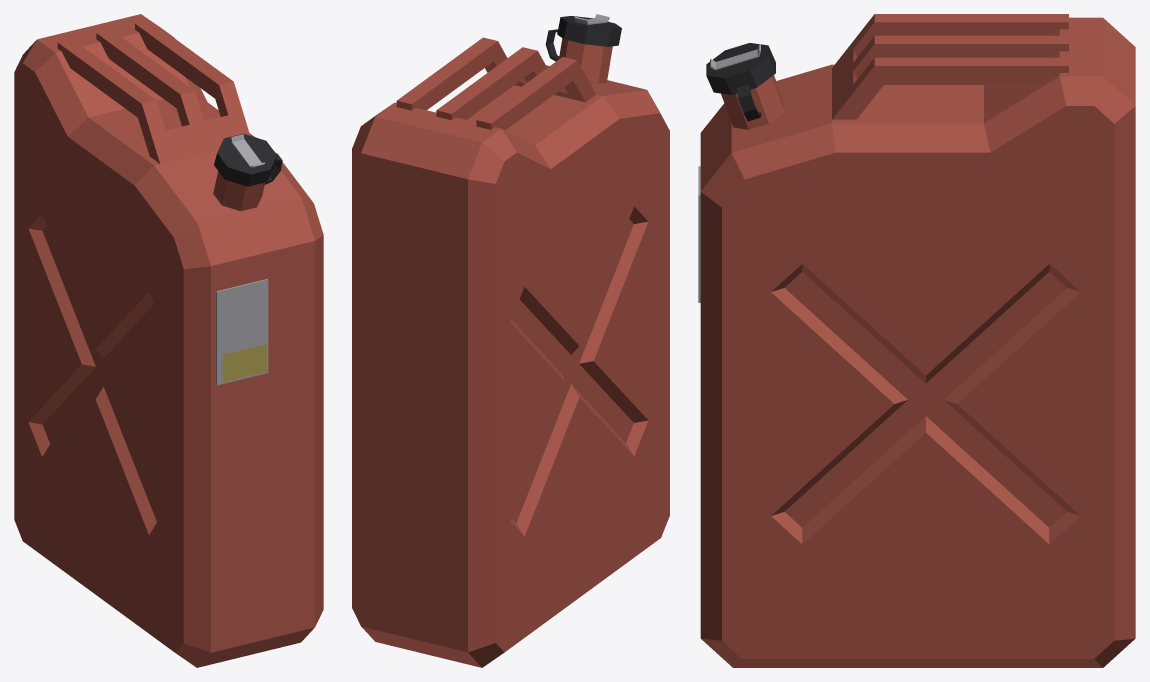
File: petrol.fbx
The picture shows the model from 3 angles, left to right: view 1: azimuth 30°, elevation 25°; view 2: azimuth 150°, elevation 25°; view 3: azimuth 270°, elevation 25°; orthographic projection. The views are drawn at different scales.
Parts seen in each view (by area): view 1: petrol; view 2: petrol; view 3: petrol.
Boxes of the visible parts, left/top/right/bottom form: petrol: left=14, top=14, right=323, bottom=667; petrol: left=352, top=14, right=669, bottom=667; petrol: left=698, top=14, right=1135, bottom=667.
Size of the model in its own units: 21.02 by 74.27 by 49.15.
